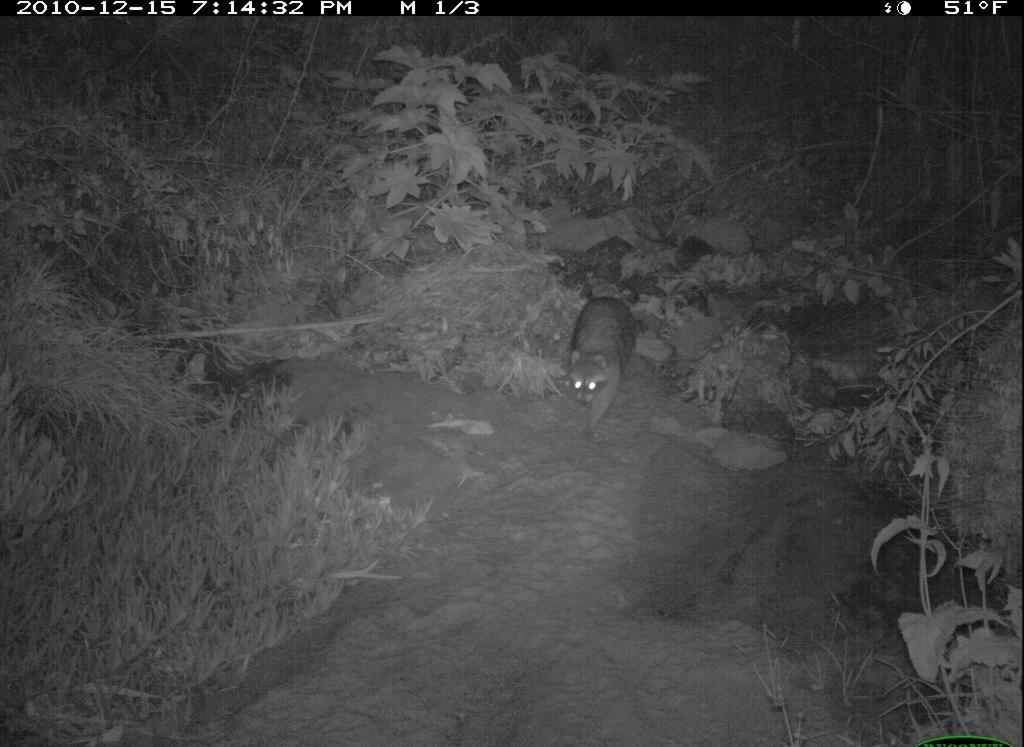raccoon: (550, 248, 656, 464)
